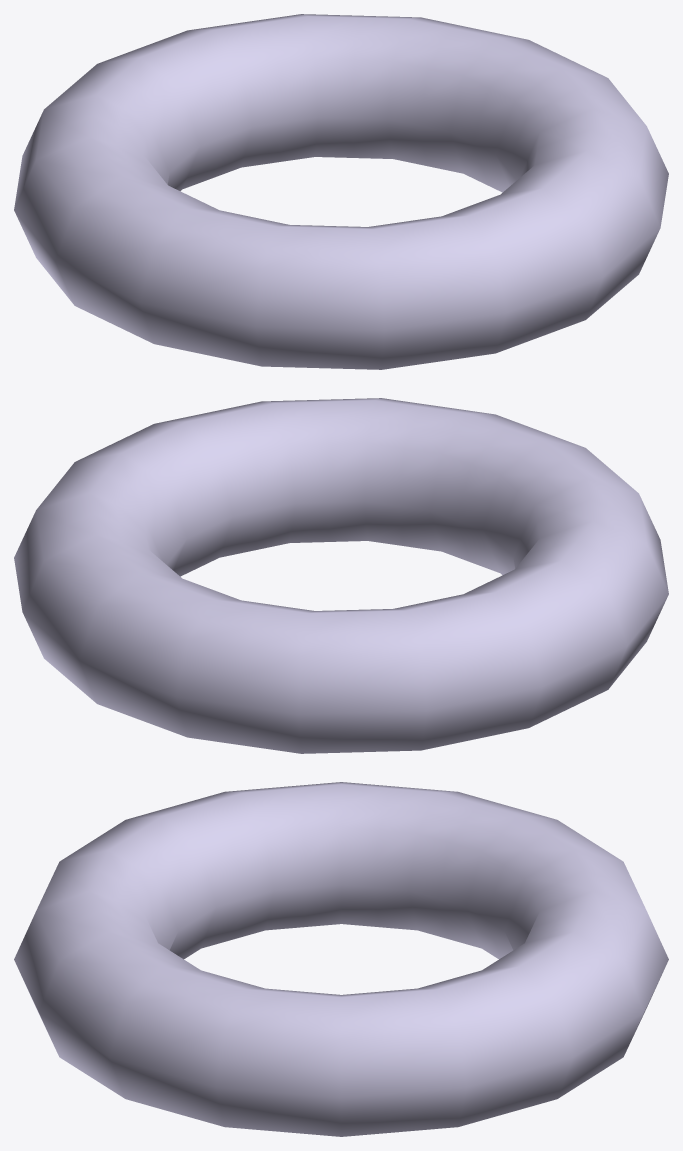
File: supertoroid.glb
3 renders of one model, top to bottom at view 1: azimuth 30°, elevation 25°; view 2: azimuth 150°, elevation 25°; view 3: azimuth 270°, elevation 25°, orthographic.
Parts seen in each view (by area): view 1: SuperToroid; view 2: SuperToroid; view 3: SuperToroid.
Part boxes in pixels (<box>): SuperToroid: <box>14,14,668,369</box>; SuperToroid: <box>14,398,668,753</box>; SuperToroid: <box>14,782,668,1136</box>.
Size of the model in its own units: 2.6 by 0.6 by 2.6.
